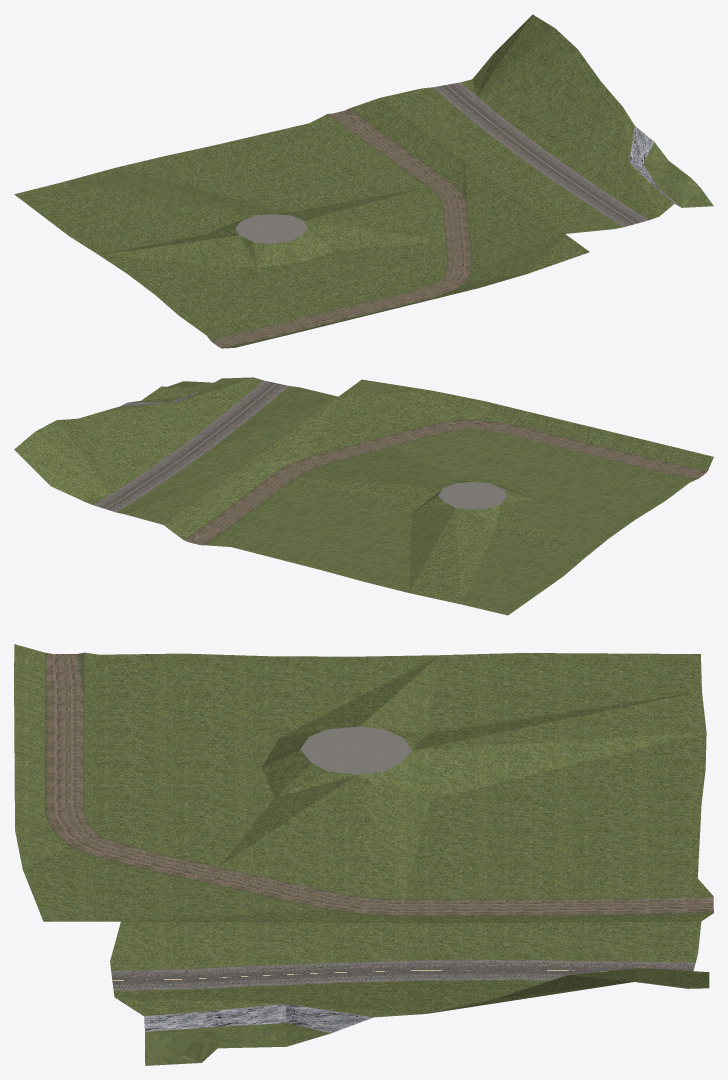
File: lod_cen_bit_16.obj
3 views of the same model, one above another, from view 1: azimuth 30°, elevation 25°; view 2: azimuth 150°, elevation 25°; view 3: azimuth 270°, elevation 25° (orthographic). The views are drawn at different scales.
Parts seen in each view (by area): view 1: lod_cen_bit_16; view 2: lod_cen_bit_16; view 3: lod_cen_bit_16.
Part boxes in pixels (x1,y1,x2,y2): lod_cen_bit_16: (14,14,713,348); lod_cen_bit_16: (14,377,713,615); lod_cen_bit_16: (14,644,713,1065).
Size of the model in its own units: 238 by 26.85 by 175.
6 materials, 6 textured.
